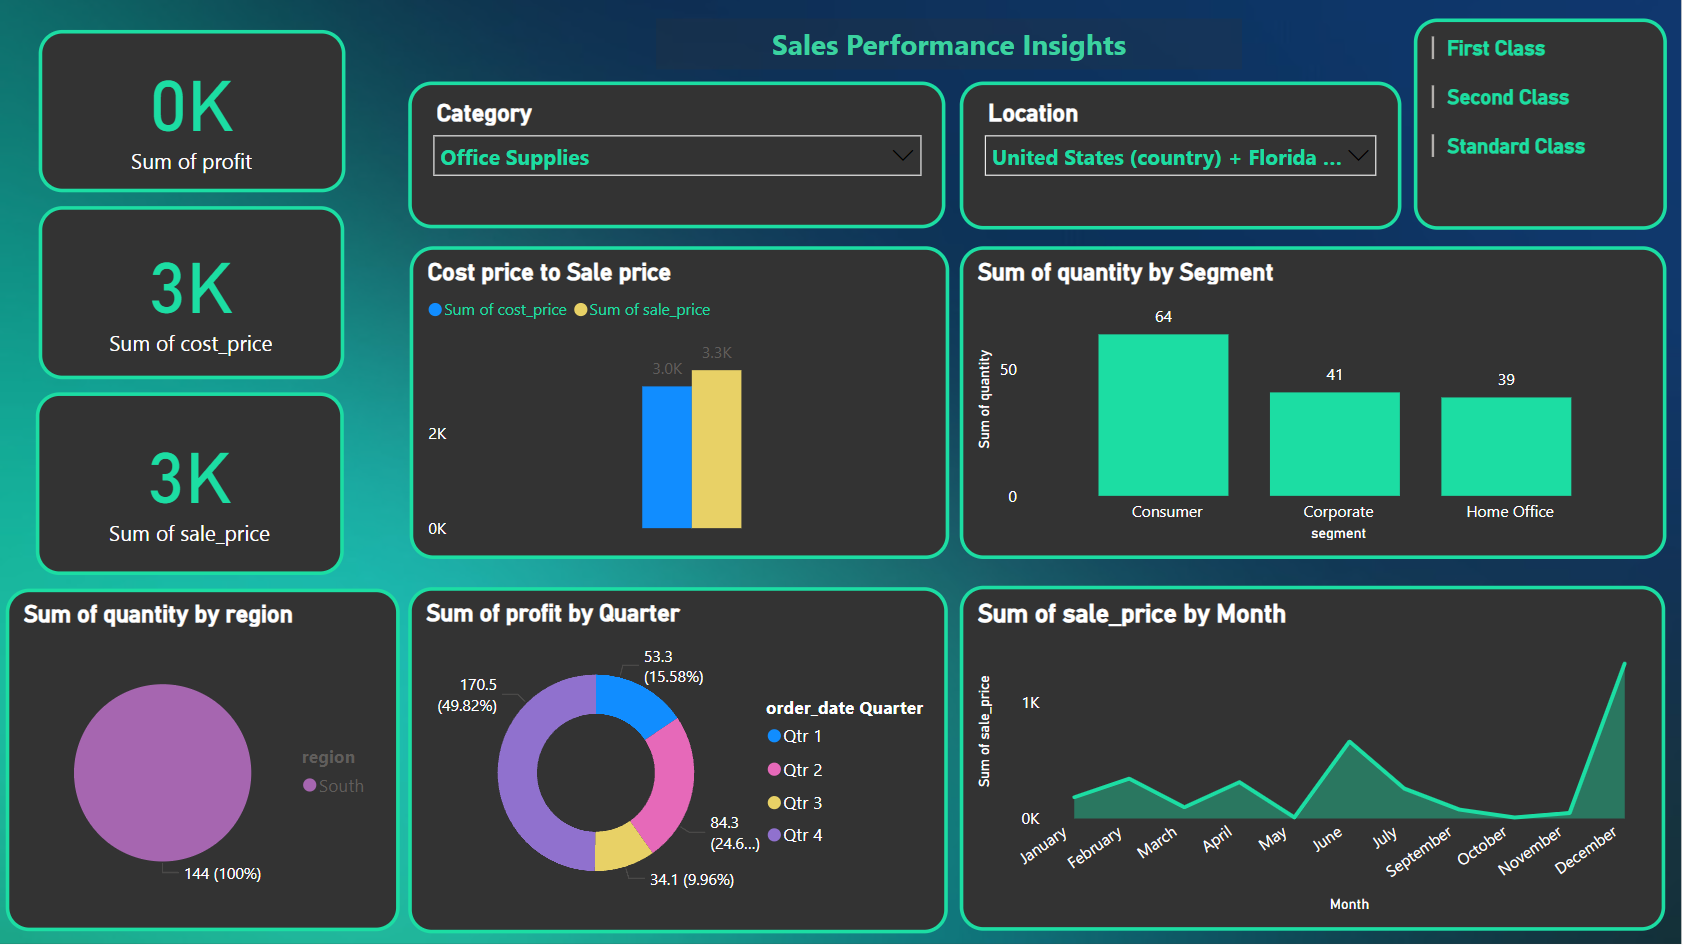

The page's visual inventory and layout, read from the dashboard file:
{"tool":"powerbi","page":{"name":"Sales Performance","canvas":[1280,720],"ordinal":0},"visuals":[{"type":"card","fields":{"Values":["Sum(updated_retail_orders.sale_price)"]},"box":[27.8,299.6,234.8,138.8],"z":0},{"type":"card","fields":{"Values":["Sum(updated_retail_orders.profit)"]},"box":[28.9,24.3,233.6,123.8],"z":1000},{"type":"stackedAreaChart","fields":{"Category":["updated_retail_orders.order_date.Variation.Date Hierarchy.Month"],"Y":["Sum(updated_retail_orders.sale_price)"]},"box":[731.2,447.5,537.5,262.5],"z":2000},{"type":"donutChart","fields":{"Category":["updated_retail_orders.order_date.Variation.Date Hierarchy.Quarter"],"Y":["Sum(updated_retail_orders.profit)"]},"box":[310.4,448,410.7,263.5],"z":3000},{"type":"slicer","fields":{"Values":["updated_retail_orders.country","updated_retail_orders.state","updated_retail_orders.city"]},"box":[731.2,63.8,336.2,112.5],"z":4000},{"type":"slicer","fields":{"Values":["updated_retail_orders.category","updated_retail_orders.sub_category"]},"box":[311.1,63.6,409.4,112.2],"z":5000},{"type":"pieChart","fields":{"Category":["updated_retail_orders.region"],"Y":["Sum(updated_retail_orders.quantity)"]},"box":[4.3,449.1,299.7,261.3],"z":6000},{"type":"clusteredColumnChart","title":"Cost price to Sale price","fields":{"Y":["Sum(updated_retail_orders.cost_price)","Sum(updated_retail_orders.sale_price)"]},"box":[311.5,188.8,410.7,237.9],"z":7000},{"type":"clusteredColumnChart","title":"Sum of quantity by Segment","fields":{"Y":["Sum(updated_retail_orders.quantity)"],"Category":["updated_retail_orders.segment"]},"box":[731,188.5,537.8,238.3],"z":8000},{"type":"multiRowCard","fields":{"Values":["updated_retail_orders.ship_mode"]},"box":[1076.8,15,193.2,160.8],"z":9000},{"type":"card","fields":{"Values":["Sum(updated_retail_orders.cost_price)"]},"box":[28.9,158.5,232.5,131.9],"z":10000},{"type":"shape","box":[500,15,446.2,38.8],"z":11000}]}

Visuals, with their boxes in screenshot pixels (x1, y1, x2, y2), scaled from the page's 1280x720 canvas onto the 1683x945 screenshot:
card - Sum(updated_retail_orders.sale_price): [left=37, top=393, right=345, bottom=575]
card - Sum(updated_retail_orders.profit): [left=38, top=32, right=345, bottom=194]
stackedAreaChart - updated_retail_orders.order_date.Variation.Date Hierarchy.Month x Sum(updated_retail_orders.sale_price): [left=961, top=587, right=1668, bottom=932]
donutChart - updated_retail_orders.order_date.Variation.Date Hierarchy.Quarter x Sum(updated_retail_orders.profit): [left=408, top=588, right=948, bottom=934]
slicer - updated_retail_orders.country x updated_retail_orders.state: [left=961, top=84, right=1403, bottom=231]
slicer - updated_retail_orders.category x updated_retail_orders.sub_category: [left=409, top=83, right=947, bottom=231]
pieChart - updated_retail_orders.region x Sum(updated_retail_orders.quantity): [left=6, top=589, right=400, bottom=932]
"Cost price to Sale price" clusteredColumnChart: [left=410, top=248, right=950, bottom=560]
"Sum of quantity by Segment" clusteredColumnChart: [left=961, top=247, right=1668, bottom=560]
multiRowCard - updated_retail_orders.ship_mode: [left=1416, top=20, right=1670, bottom=231]
card - Sum(updated_retail_orders.cost_price): [left=38, top=208, right=344, bottom=381]
shape: [left=657, top=20, right=1244, bottom=71]
